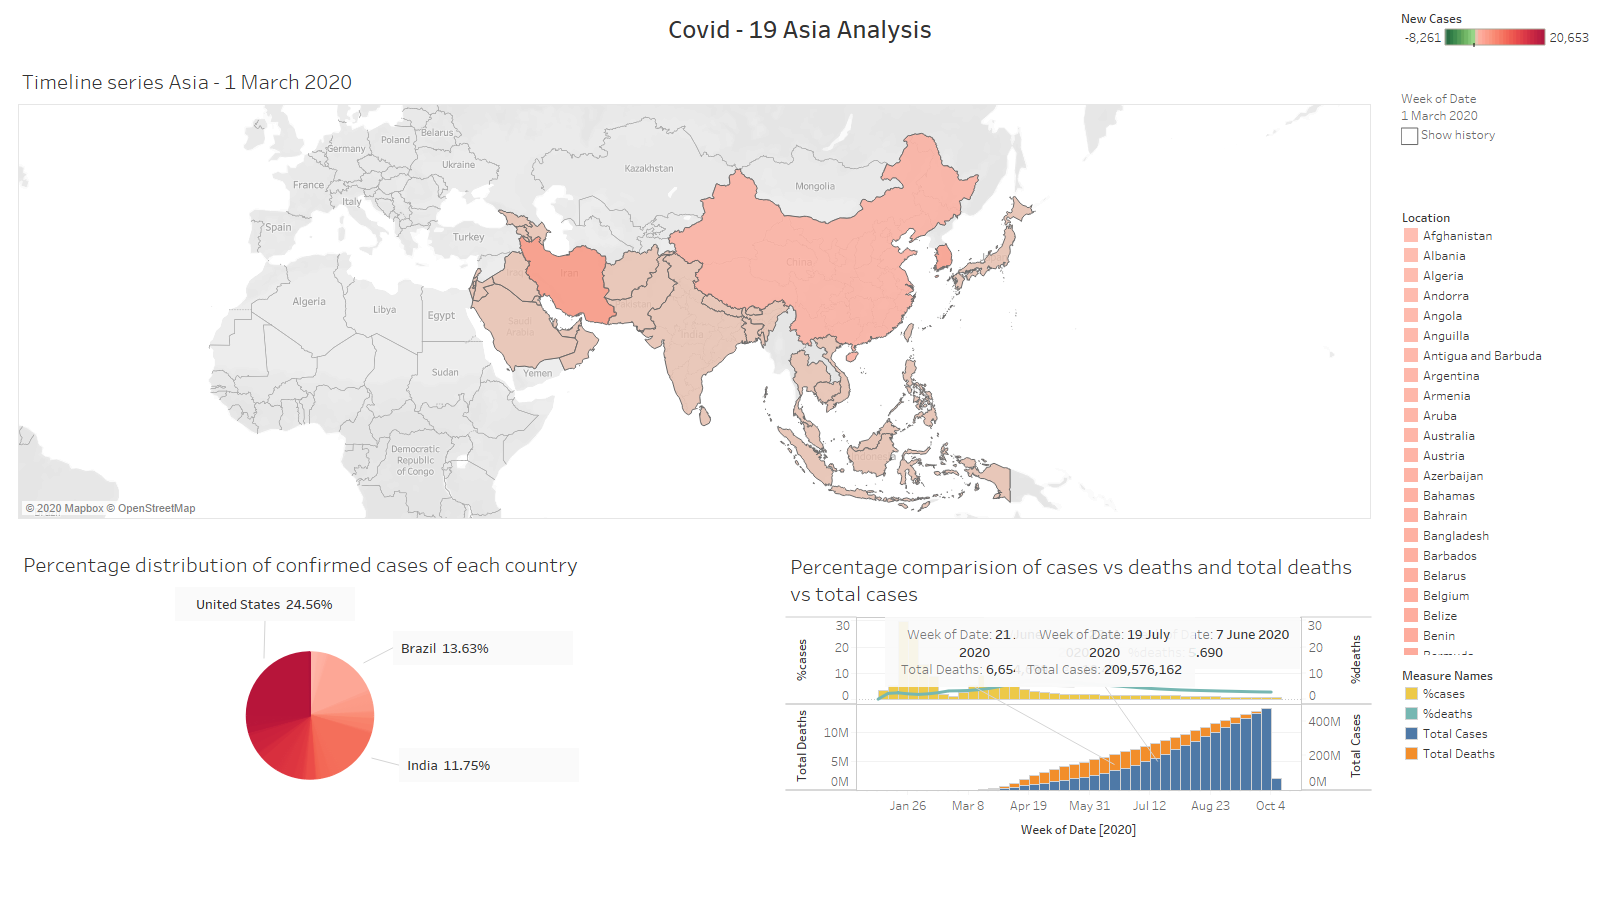

This screenshot's page, from the dashboard's own definition file:
{"tool":"tableau","page":{"name":"Covid - 19 Asia Analysis","canvas":[1600,900],"ordinal":0},"visuals":[{"type":"worksheet","box":[0,0,1600,900]},{"type":"worksheet","title":"Timeline series Asia","mark":"Automatic","param":"[federated.0qp51v80osefns13riihe18kd6x3].[sum:new_cases:qk]","box":[1401,6,193,76]},{"type":"worksheet","param":"vert","box":[8,8,1584,884]},{"type":"worksheet","box":[8,8,1584,41]},{"type":"worksheet","box":[8,49,1584,843]},{"type":"worksheet","title":"Timeline series Asia","mark":"Automatic","box":[18,61,1353,458]},{"type":"worksheet","title":"Timeline series Asia","mark":"Automatic","box":[1401,89,194,110]},{"type":"worksheet","title":"Percentage distribution of confirmed cases of each country","mark":"Pie","param":"[federated.0qp51v80osefns13riihe18kd6x3].[none:location:nk]","box":[1401,207,193,448]},{"type":"worksheet","title":"Percentage distribution of confirmed cases of each country","mark":"Pie","box":[19,544,582,300]},{"type":"worksheet","title":"Percentage comparision of cases vs deaths and total deaths vs total cases","mark":"Automatic","rows":["Calculation_370702582659592193","Calculation_370702582657970176","total_deaths","total_cases"],"cols":["date"],"box":[786,546,586,300]},{"type":"worksheet","title":"Percentage comparision of cases vs deaths and total deaths vs total cases","mark":"Automatic","rows":["Calculation_370702582659592193","Calculation_370702582657970176","total_deaths","total_cases"],"cols":["date"],"param":"[federated.0qp51v80osefns13riihe18kd6x3].[:Measure Names]","box":[1401,665,192,98]}]}

Visuals, with their boxes in screenshot pixels (x1, y1, x2, y2), scaled from the page's 1600x900 canvas onto the 1600x900 screenshot:
worksheet: crop(0, 0, 1599, 899)
"Timeline series Asia" worksheet: crop(1401, 6, 1594, 82)
worksheet: crop(8, 8, 1592, 892)
worksheet: crop(8, 8, 1592, 49)
worksheet: crop(8, 49, 1592, 892)
"Timeline series Asia" worksheet: crop(18, 61, 1371, 519)
"Timeline series Asia" worksheet: crop(1401, 89, 1595, 199)
"Percentage distribution of confirmed cases of each country" worksheet (Pie marks): crop(1401, 207, 1594, 655)
"Percentage distribution of confirmed cases of each country" worksheet (Pie marks): crop(19, 544, 601, 844)
"Percentage comparision of cases vs deaths and total deaths vs total cases" worksheet: crop(786, 546, 1372, 846)
"Percentage comparision of cases vs deaths and total deaths vs total cases" worksheet: crop(1401, 665, 1593, 763)
